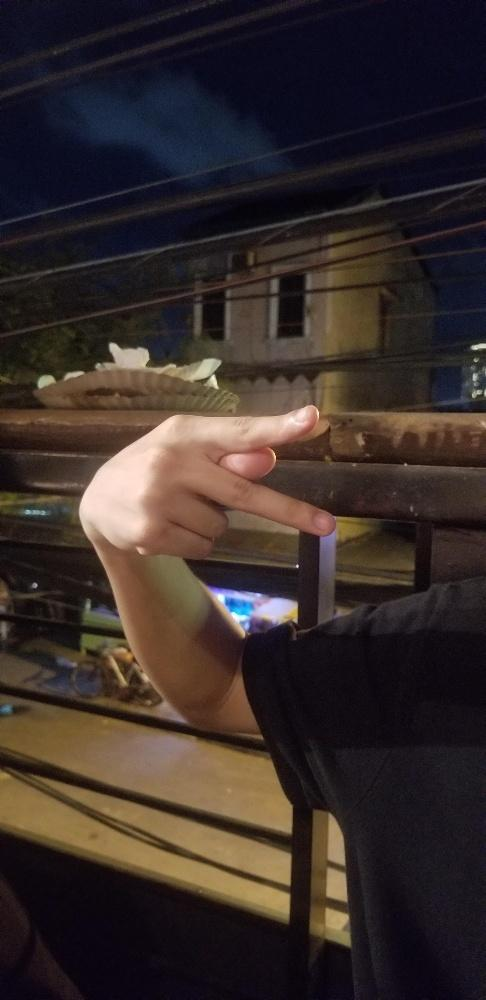k: (74, 402, 337, 561)
